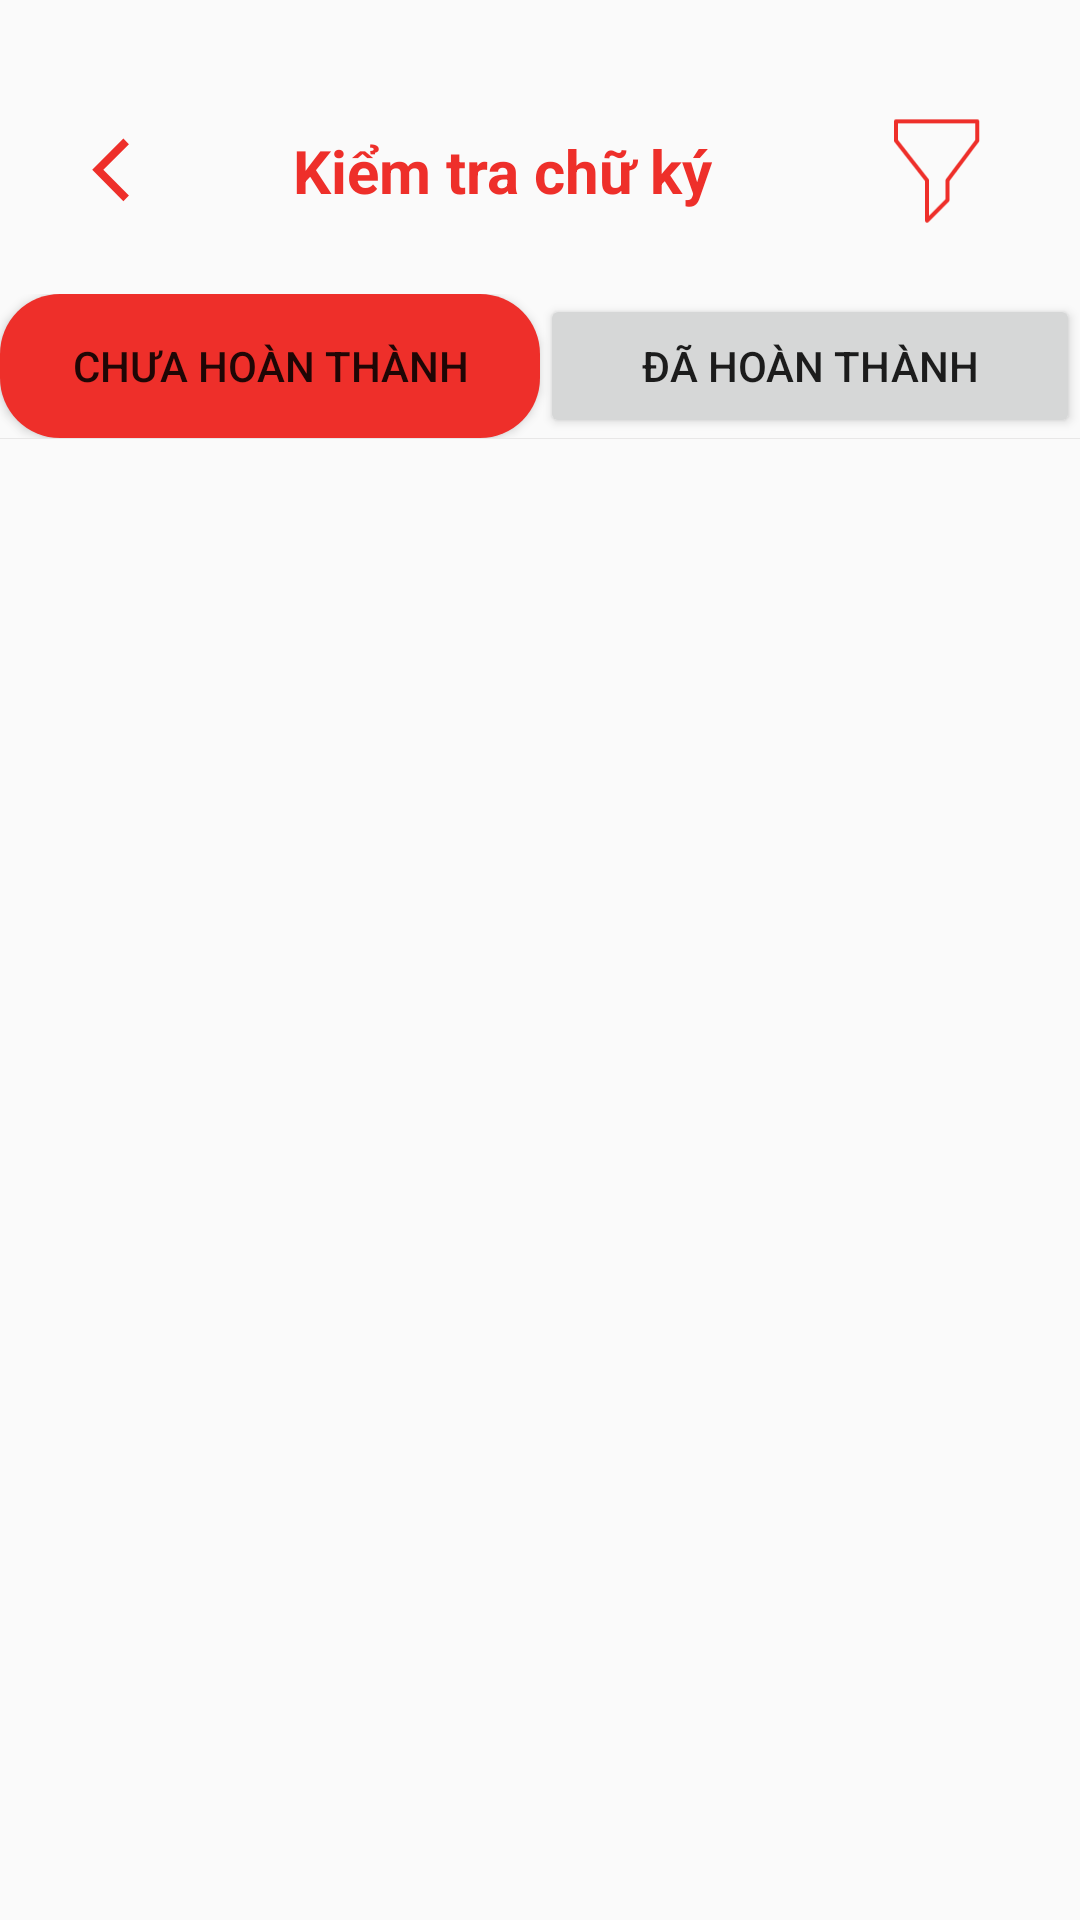

Icon bounding boxes for this 1080px×1920px phone screenshot, format (x1, y1, x2, y2):
filter: (894, 119, 980, 223)
left: (92, 138, 129, 201)
